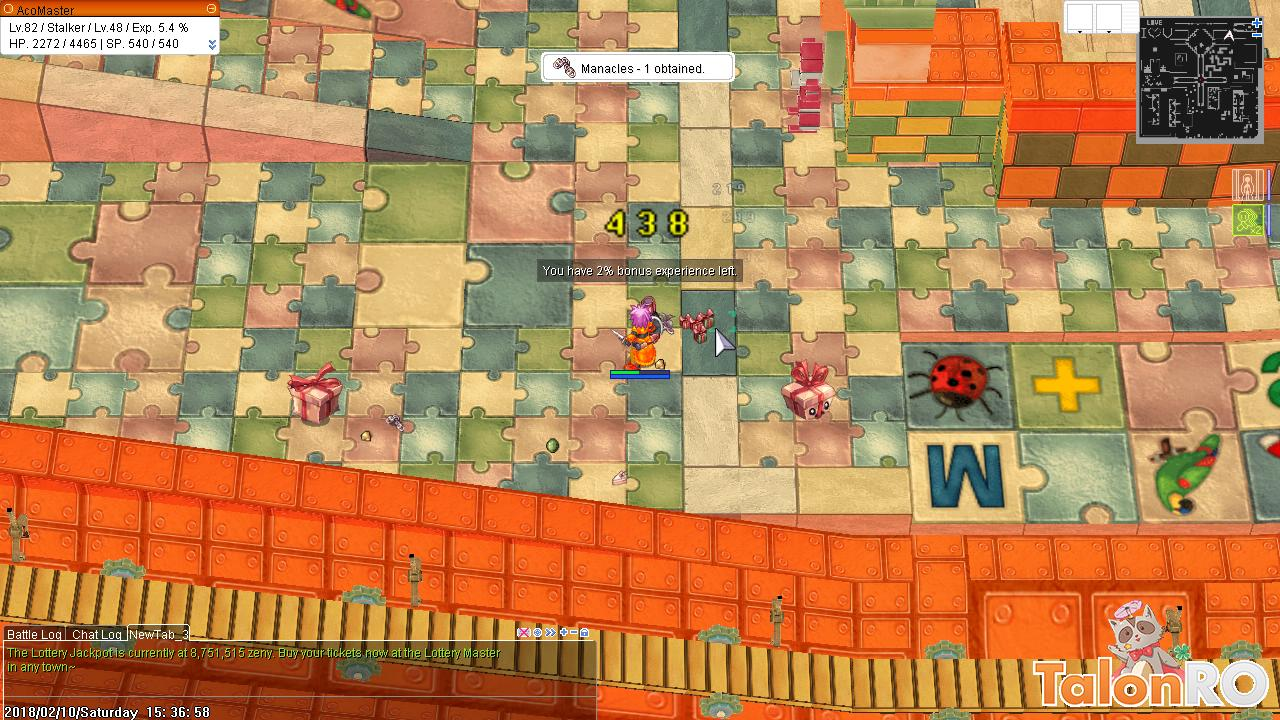loot: (607, 465, 632, 487), (386, 414, 409, 434), (543, 433, 562, 457), (355, 427, 378, 446), (657, 360, 667, 368)
mob: (773, 356, 842, 421), (286, 360, 344, 426)
